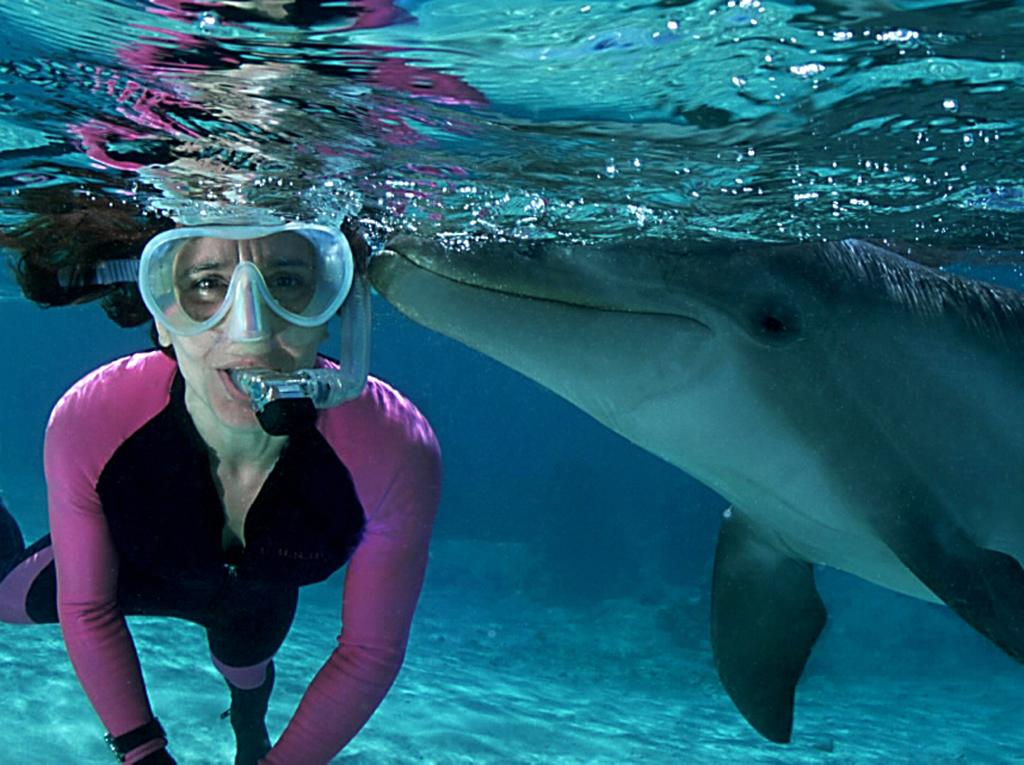face: (172, 208, 318, 420)
